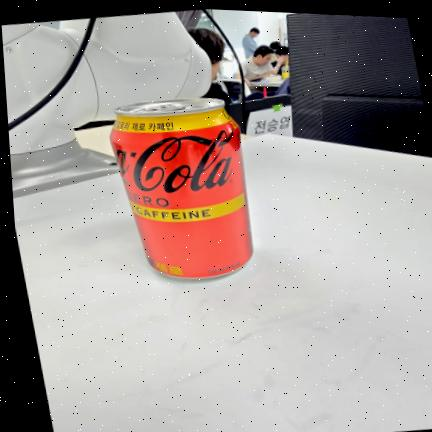can_coke_decaf: (110, 98, 252, 278)
